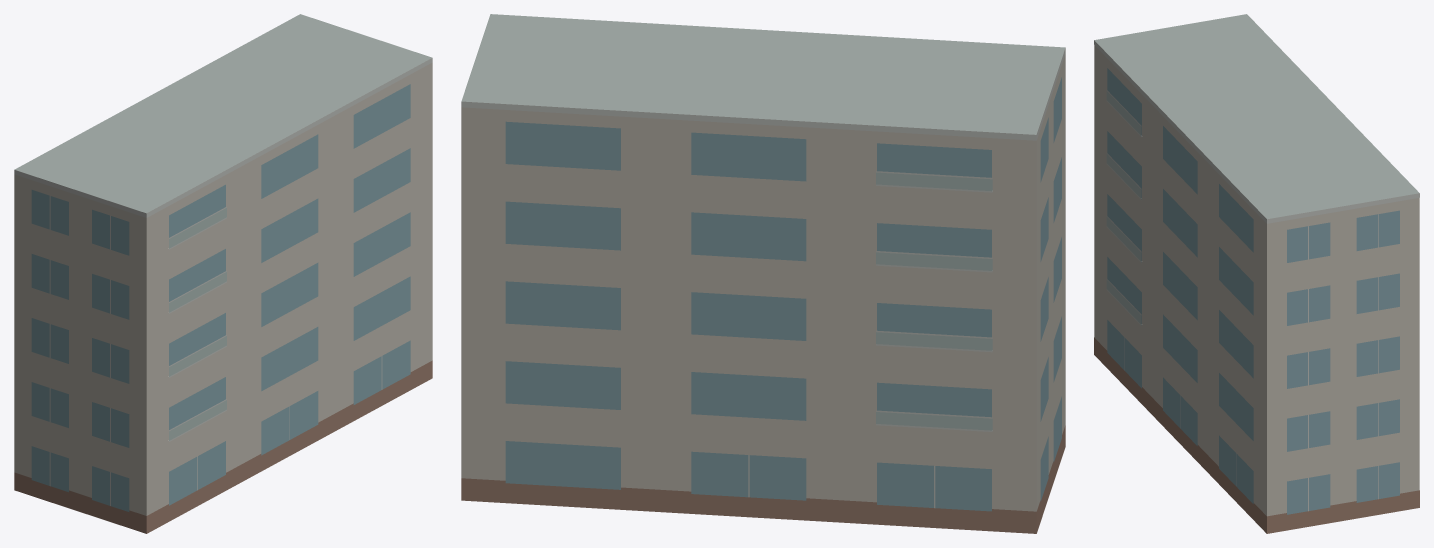
File: survey-upis-32916422.glb
3 views of the same model, side by side, from view 1: azimuth 30°, elevation 25°; view 2: azimuth 150°, elevation 25°; view 3: azimuth 270°, elevation 25° (orthographic). The views are drawn at different scales.
Visible parts, largest first — view 1: survey-upis-32916422.tmp; view 2: survey-upis-32916422.tmp; view 3: survey-upis-32916422.tmp.
Boxes of the visible parts, x1,y1,x2,y2 form: survey-upis-32916422.tmp: [14, 14, 432, 533]; survey-upis-32916422.tmp: [461, 14, 1065, 533]; survey-upis-32916422.tmp: [1094, 14, 1419, 533].
Bounding box in the file's own units: 23.45 × 16.75 × 15.72.
